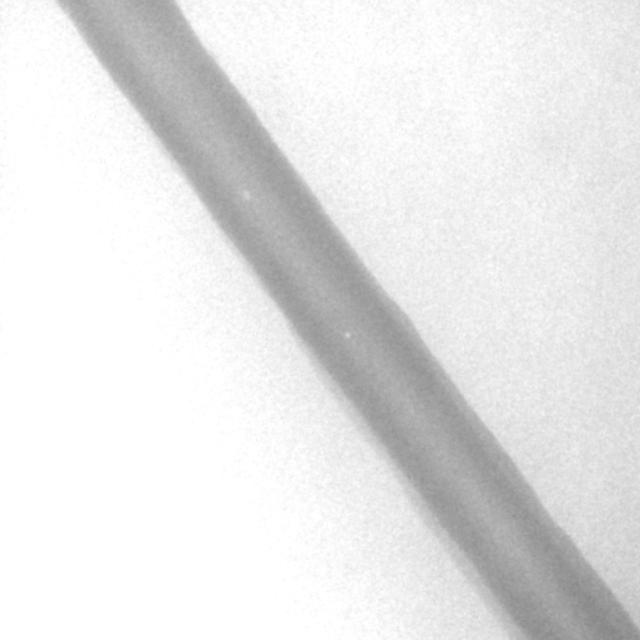air hole: (239, 185, 253, 204), (342, 329, 353, 341)
